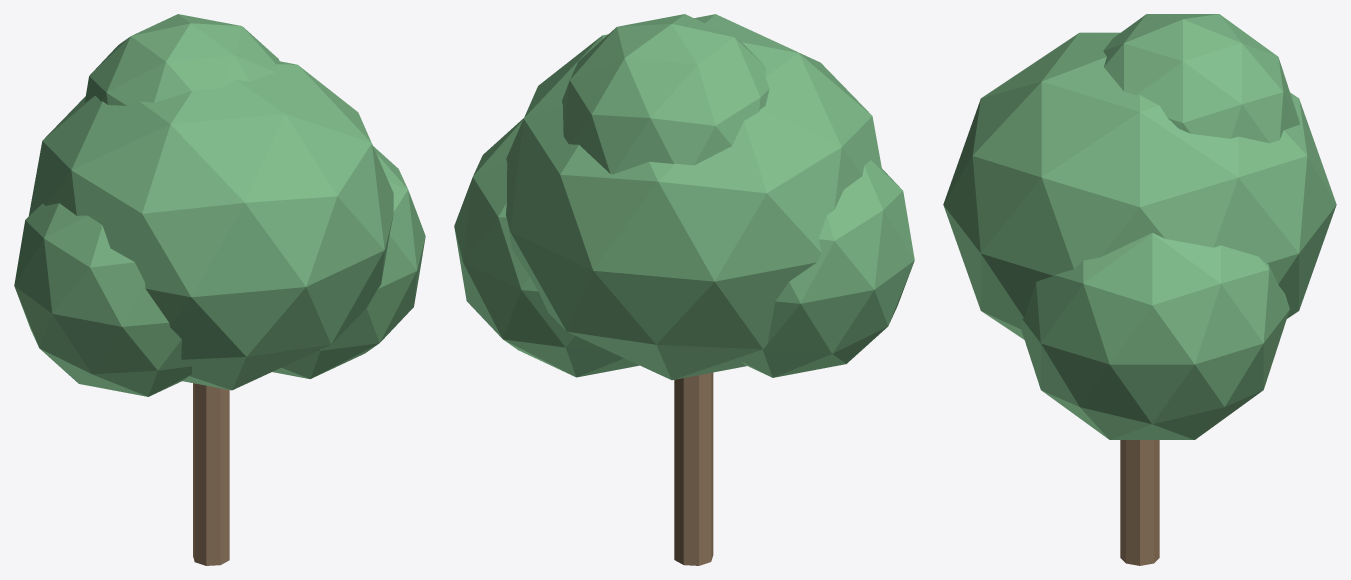
Rendered from tree_a.glb.
3 renders of one model, left to right at view 1: azimuth 30°, elevation 25°; view 2: azimuth 150°, elevation 25°; view 3: azimuth 270°, elevation 25°, orthographic. The views are drawn at different scales.
Parts seen in each view (by area): view 1: tree_a; view 2: tree_a; view 3: tree_a.
Boxes of the visible parts, x1=… form: tree_a: x1=14, y1=14, x2=425, y2=565; tree_a: x1=454, y1=14, x2=914, y2=565; tree_a: x1=943, y1=14, x2=1336, y2=565.
Bounding box in the file's own units: 3.73 × 4.83 × 3.2.
